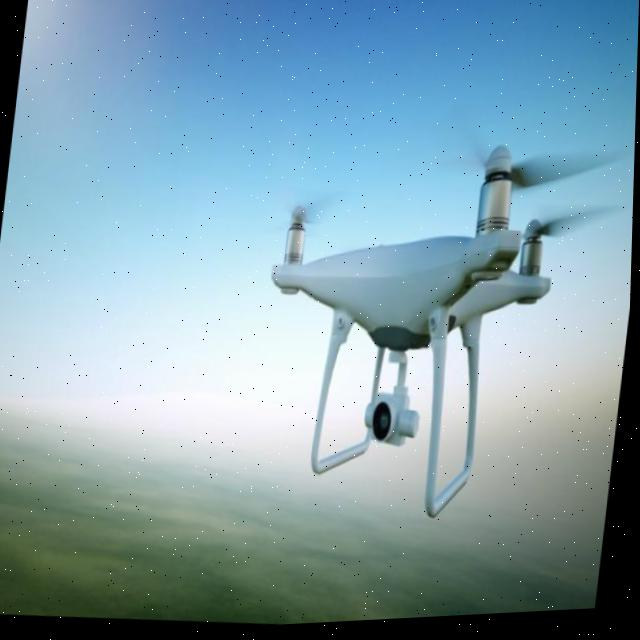drones: (226, 77, 638, 568)
